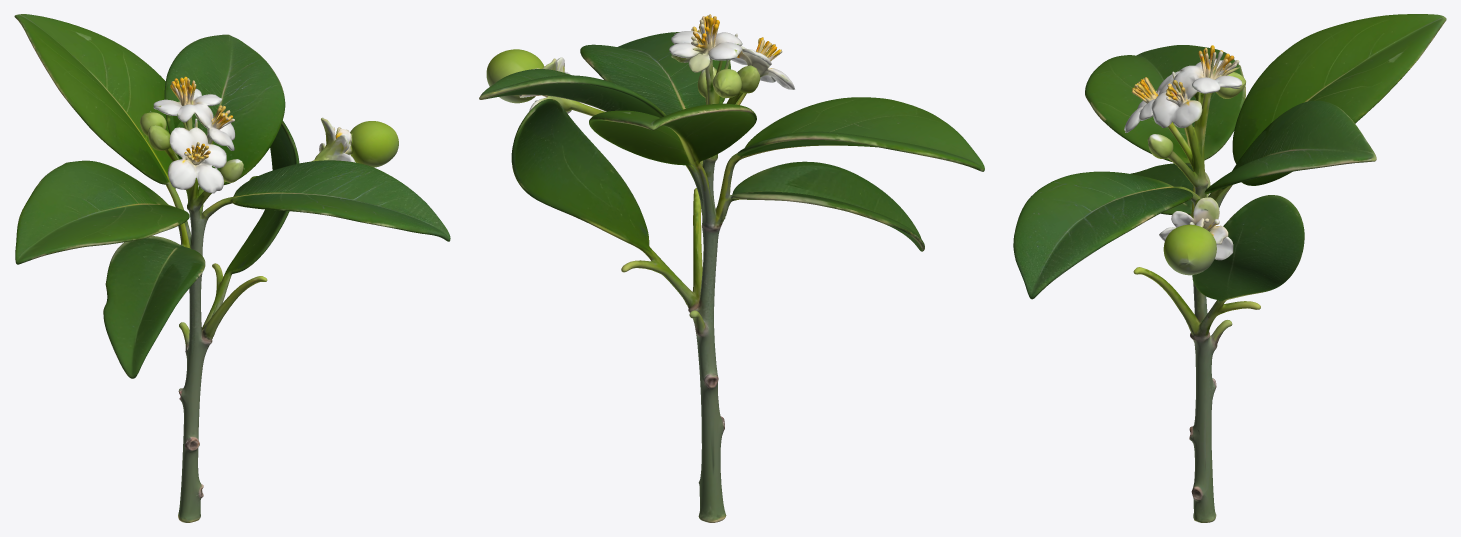
Rendered from daidaihua.glb.
The picture shows the model from 3 angles, left to right: view 1: azimuth 30°, elevation 25°; view 2: azimuth 150°, elevation 25°; view 3: azimuth 270°, elevation 25°; orthographic projection. The views are drawn at different scales.
Parts seen in each view (by area): view 1: node_0; view 2: node_0; view 3: node_0.
Boxes of the visible parts, x1=… form: node_0: x1=14, y1=14, x2=450, y2=522; node_0: x1=479, y1=14, x2=984, y2=522; node_0: x1=1013, y1=14, x2=1446, y2=522.
Bounding box in the file's own units: 0.8821 × 0.9096 × 0.7568.
Materials: 1 (1 with a texture image).
